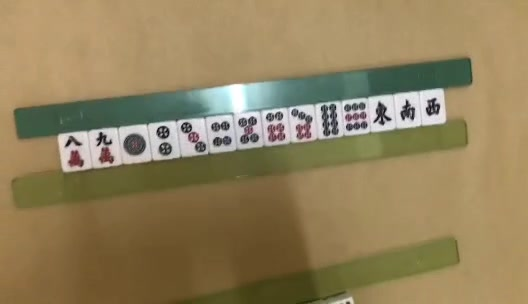1p: (124, 133, 146, 156)
1z: (373, 100, 392, 127)
2p: (157, 127, 172, 157)
2z: (400, 99, 416, 123)
3p: (181, 123, 205, 152)
3z: (425, 98, 441, 116)
4p: (212, 120, 231, 148)
5p: (238, 117, 260, 143)
6p: (267, 112, 284, 141)
7p: (292, 109, 312, 140)
8m: (63, 135, 85, 168)
8p: (321, 104, 340, 137)
9m: (96, 132, 114, 164)
9p: (344, 101, 368, 132)
